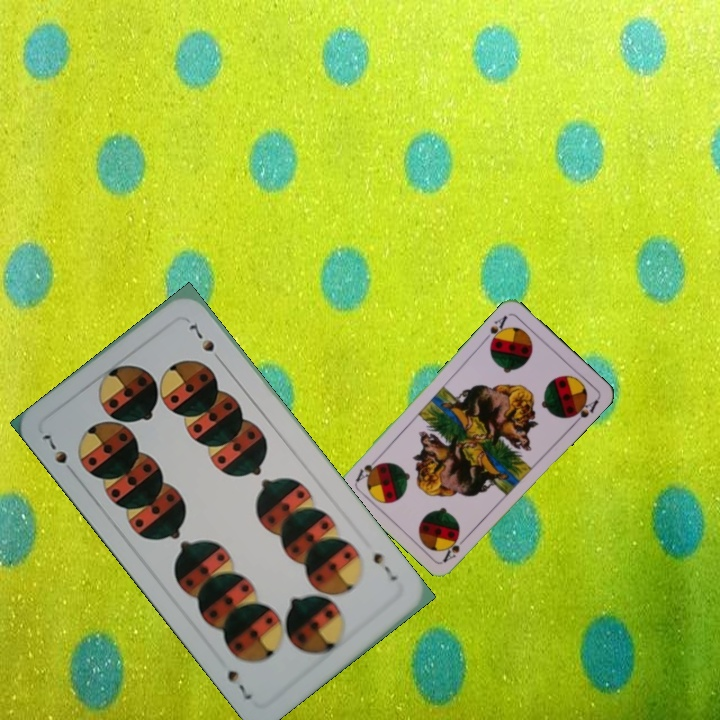S7: (38, 430, 70, 467), (369, 548, 400, 584)
SA: (439, 531, 471, 564), (486, 311, 510, 348)
